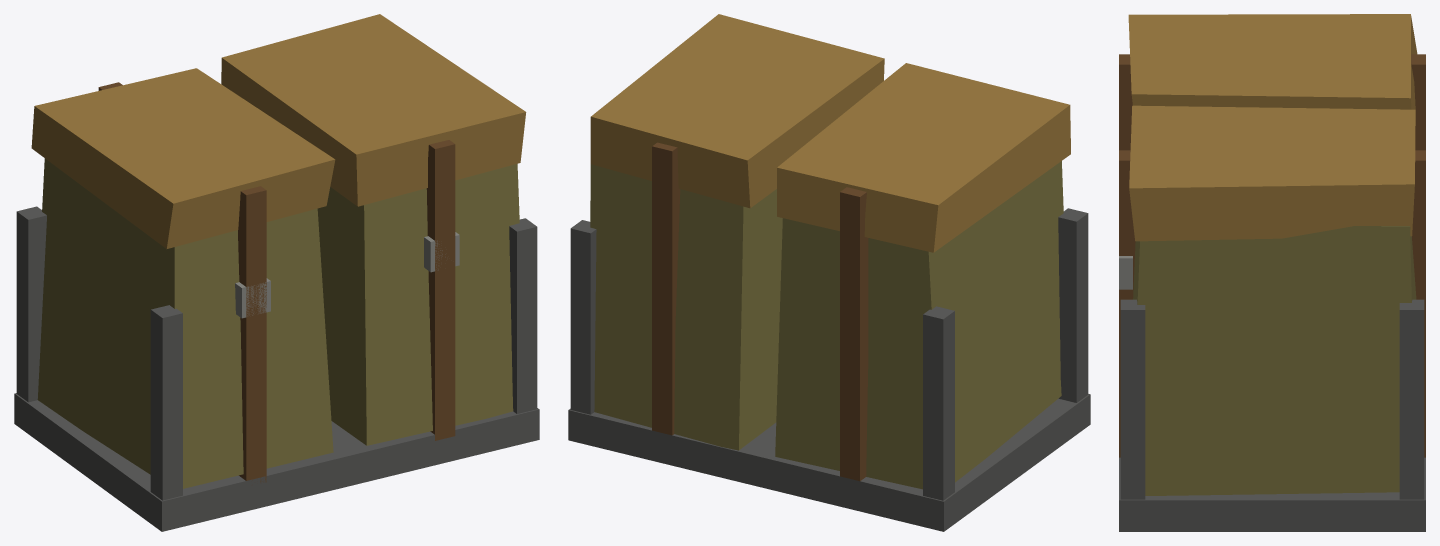
The model's file is cargo_panniers.glb.
3 renders of one model, left to right at view 1: azimuth 30°, elevation 25°; view 2: azimuth 150°, elevation 25°; view 3: azimuth 270°, elevation 25°, orthographic. The views are drawn at different scales.
Parts seen in each view (by area): view 1: cargo_panniers; view 2: cargo_panniers; view 3: cargo_panniers.
Boxes of the visible parts, x1,y1,x2,y2 form: cargo_panniers: (14,14,539,531); cargo_panniers: (568,14,1090,531); cargo_panniers: (1119,14,1425,531).
Bounding box in the file's own units: 0.65 × 0.5367 × 0.44.
